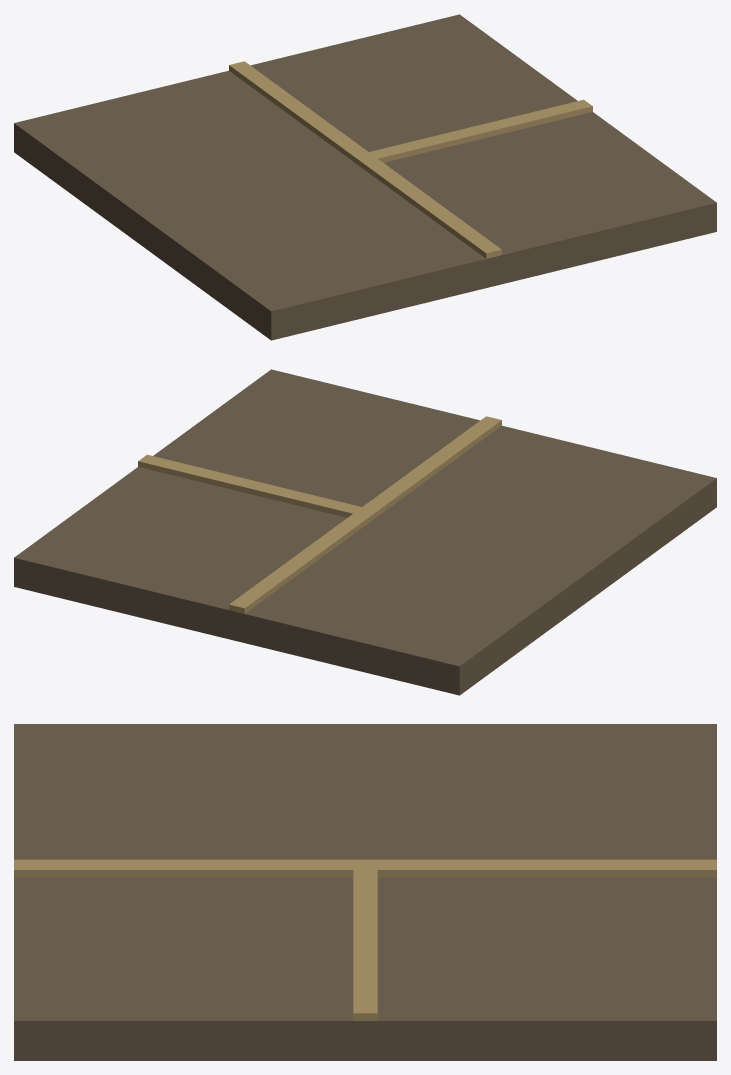
File: terrain-path-t-junction.lod0.glb
3 renders of one model, top to bottom at view 1: azimuth 30°, elevation 25°; view 2: azimuth 150°, elevation 25°; view 3: azimuth 270°, elevation 25°, orthographic. The views are drawn at different scales.
Parts seen in each view (by area): view 1: terrain-path-t-junction__body; view 2: terrain-path-t-junction__body; view 3: terrain-path-t-junction__body.
Part boxes in pixels (bbox=[...]): terrain-path-t-junction__body: bbox=[14, 14, 716, 340]; terrain-path-t-junction__body: bbox=[14, 369, 716, 695]; terrain-path-t-junction__body: bbox=[14, 724, 716, 1060].
Size of the model in its own units: 2 by 0.149 by 2.
